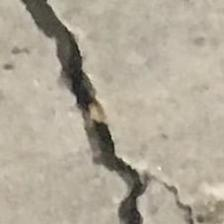Crack: (15, 0, 200, 224)
